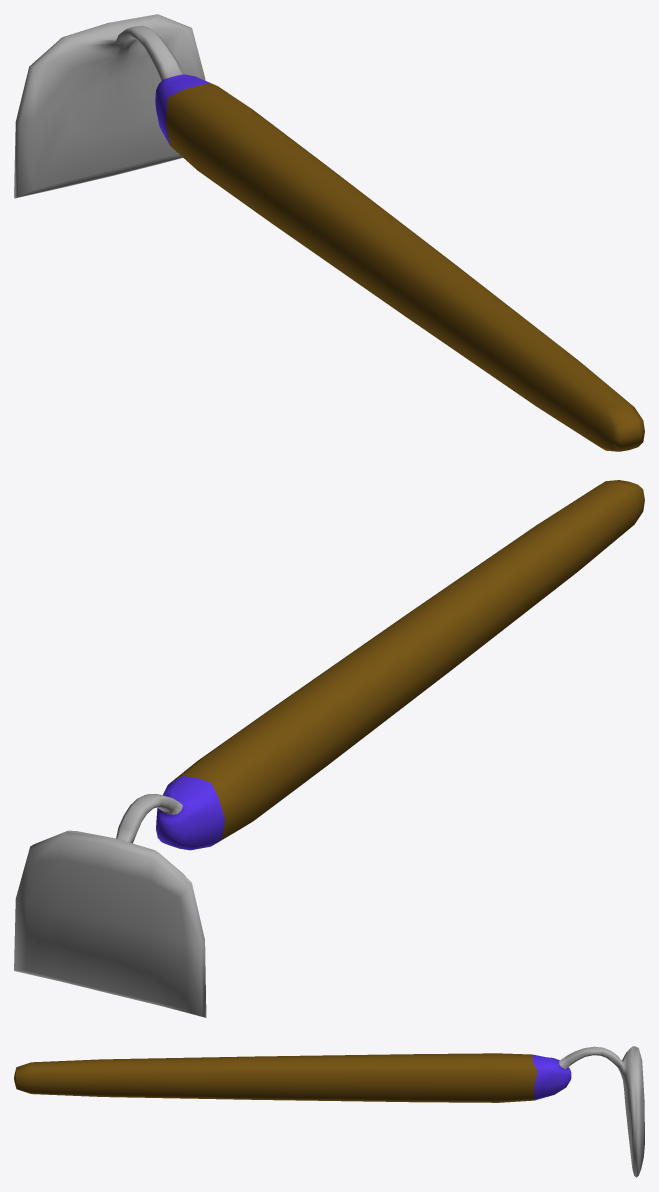
Rendered from hoe 1.fbx.
3 views of the same model, one above another, from view 1: azimuth 30°, elevation 25°; view 2: azimuth 150°, elevation 25°; view 3: azimuth 270°, elevation 25° (orthographic). The views are drawn at different scales.
Visible parts, largest first — view 1: Cube; view 2: Cube; view 3: Cube.
Boxes of the visible parts, left/top/right/bottom form: Cube: left=14, top=14, right=644, bottom=451; Cube: left=14, top=480, right=644, bottom=1017; Cube: left=14, top=1046, right=644, bottom=1177.
Bounding box in the file's own units: 620 × 525 × 2951.
